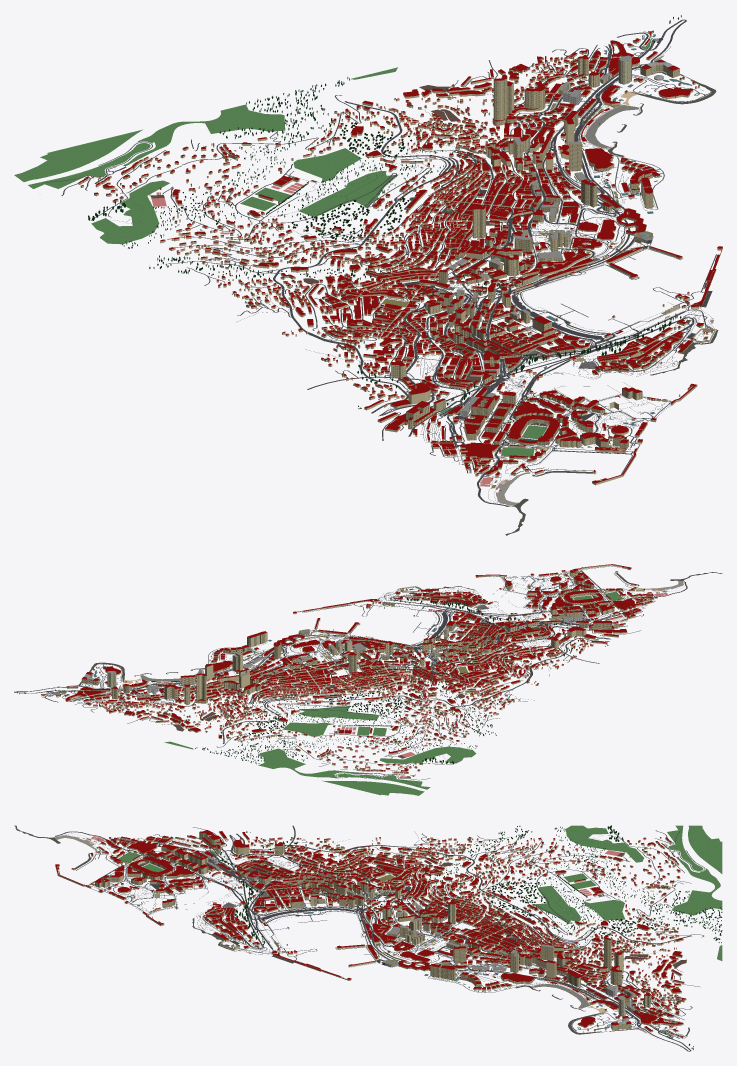
Rendered from monaco.glb.
The picture shows the model from 3 angles, top to bottom: view 1: azimuth 30°, elevation 25°; view 2: azimuth 150°, elevation 25°; view 3: azimuth 270°, elevation 25°; orthographic projection. The views are drawn at different scales.
Parts seen in each view (by area): view 1: cell_-1_-1, cell_-1_0, cell_0_-1, cell_0_-2, cell_-1_-2, cell_-1_1, cell_-2_-2, cell_-2_0, cell_-2_-1, cell_-2_1, cell_0_0, cell_1_-2; view 2: cell_-1_-1, cell_-1_0, cell_0_-2, cell_0_-1, cell_-1_-2, cell_-1_1, cell_-2_0, cell_-2_-2, cell_-2_-1, cell_-2_1, cell_0_0, cell_1_-2; view 3: cell_-1_-1, cell_-1_0, cell_0_-1, cell_0_-2, cell_-1_-2, cell_-1_1, cell_-2_-2, cell_-2_0, cell_-2_-1, cell_-2_1, cell_0_0, cell_1_-2.
Part boxes in pixels (x1,y1,x2,y2): cell_-1_-1: (196,165,587,329); cell_-1_0: (337,269,694,435); cell_0_-1: (445,118,667,268); cell_0_-2: (335,44,695,162); cell_-1_-2: (49,83,433,224); cell_-1_1: (481,383,697,485); cell_-2_-2: (14,137,192,244); cell_-2_0: (305,328,480,445); cell_-2_-1: (122,223,333,337); cell_-2_1: (429,430,536,535); cell_0_0: (587,246,722,349); cell_1_-2: (610,15,716,103); cell_-1_-1: (275,637,514,738); cell_-1_0: (362,581,601,674); cell_0_-2: (69,664,269,750); cell_0_-1: (166,624,360,702); cell_-1_-2: (207,703,426,794); cell_-1_1: (475,564,638,608); cell_-2_0: (517,605,640,679); cell_-2_-2: (335,739,476,795); cell_-2_-1: (428,674,538,749); cell_-2_1: (609,572,722,617); cell_0_0: (293,586,429,636); cell_1_-2: (14,662,122,702); cell_-1_-1: (358,852,577,938); cell_-1_0: (163,844,371,941); cell_0_-1: (367,930,570,999); cell_0_-2: (566,935,722,1024); cell_-1_-2: (563,841,722,938); cell_-1_1: (55,851,171,925); cell_-2_-2: (565,825,722,868); cell_-2_0: (162,825,369,855); cell_-2_-1: (365,826,570,853); cell_-2_1: (14,825,169,854); cell_0_0: (216,935,373,980); cell_1_-2: (568,1018,693,1051).
Size of the model in its own units: 2665 by 170 by 3534.
Materials: 37 (36 with a texture image).
